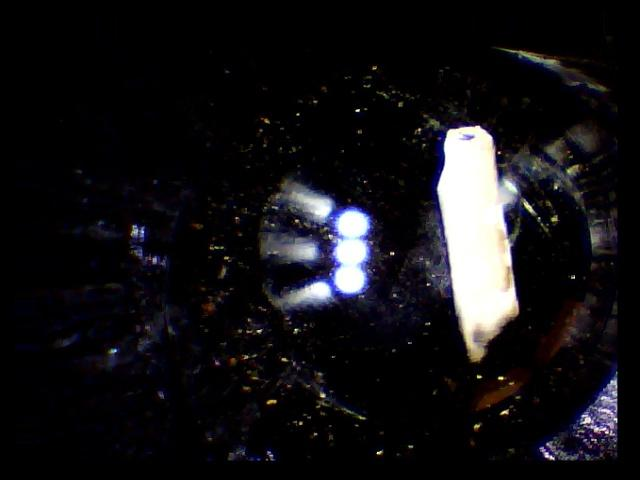megot: (427, 115, 528, 380)
